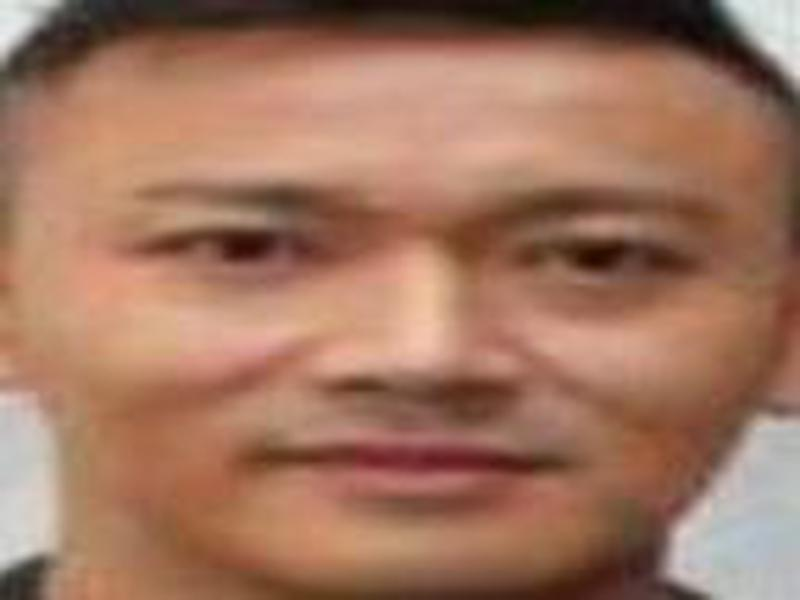without_mask: (24, 33, 777, 593)
